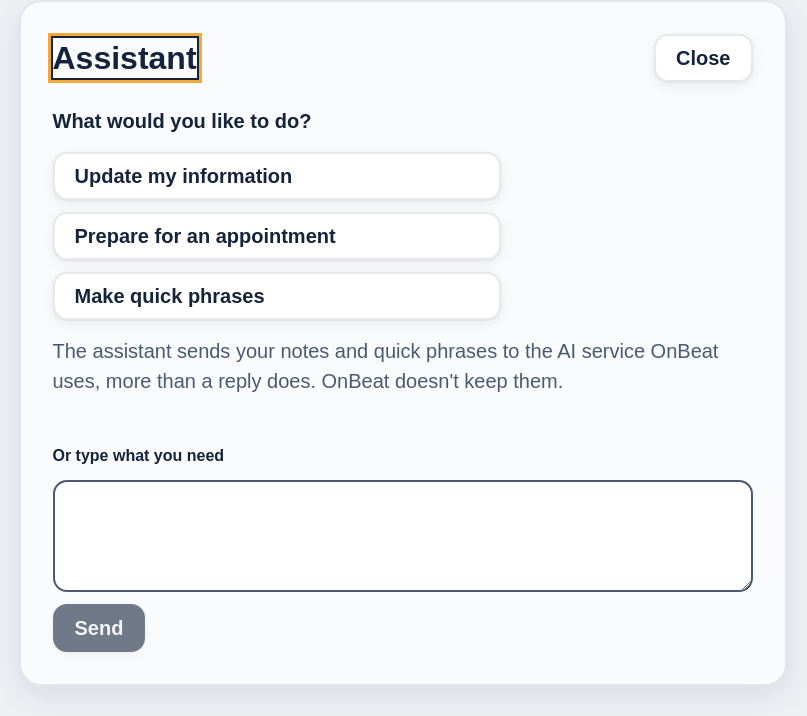
Test case: AssistantScreen under StrictMode › still sends after the development remount
Click the button "Make quick phrases". click: (170, 296)
box: [52,272,500,320]
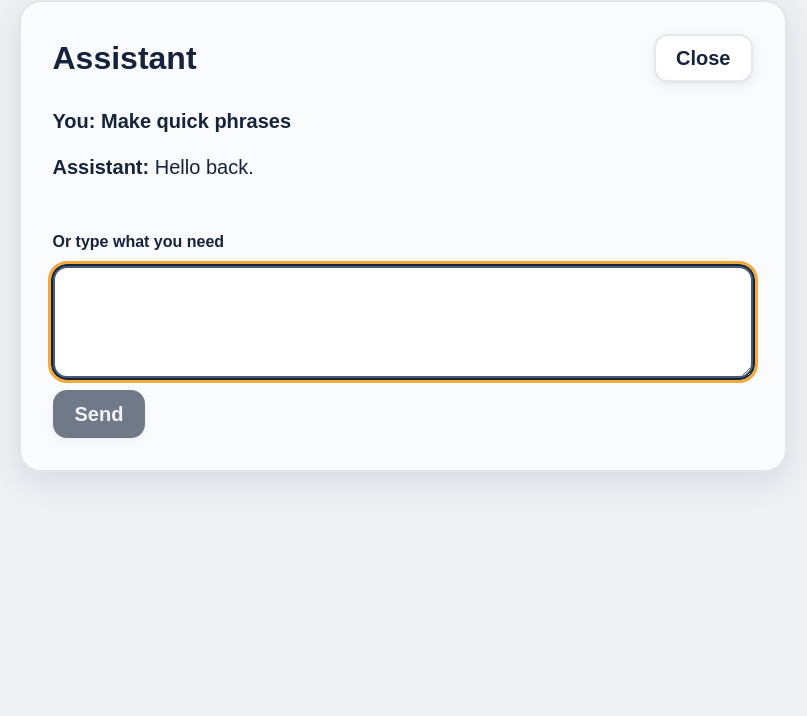
Now the text "Hello back." is shown, box [155,156,254,178]
